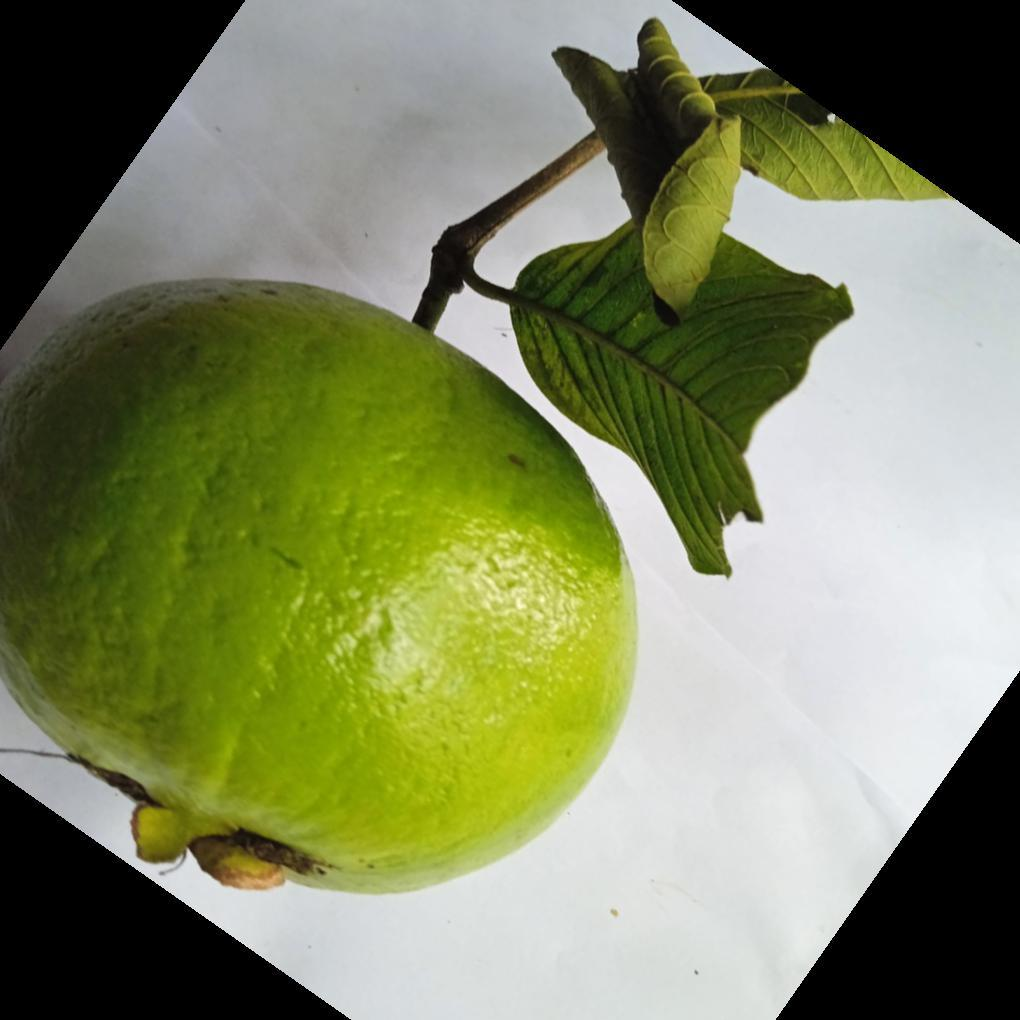FreshGuava: (0, 279, 639, 900)
